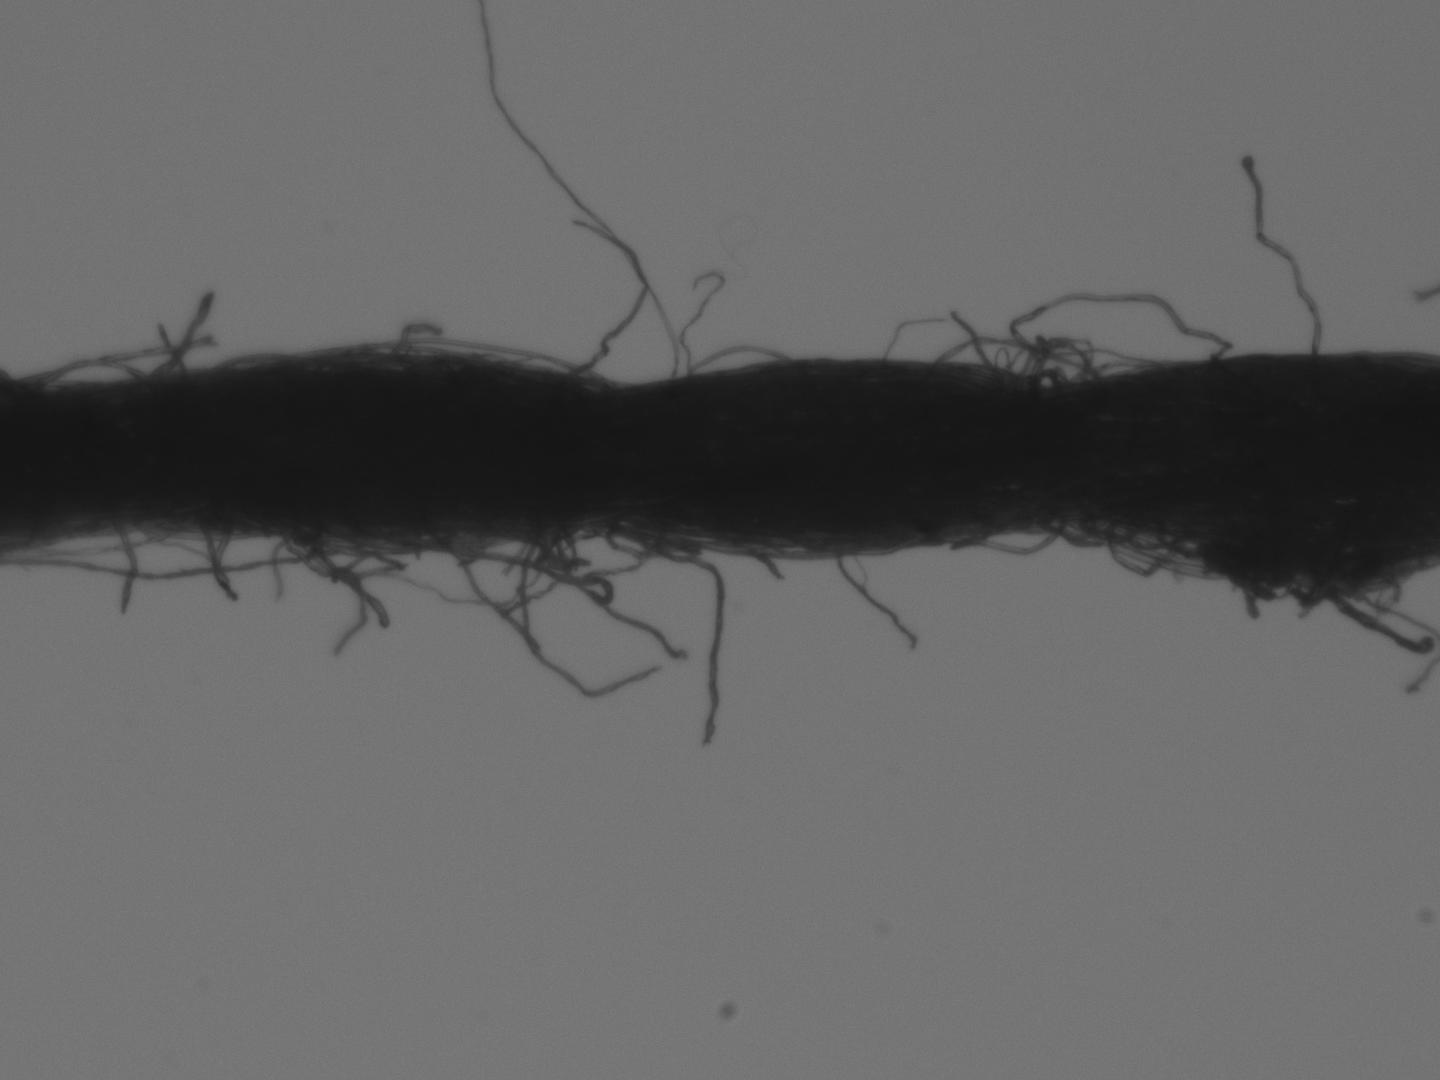loop_fiber: (1007, 290, 1234, 378), (2, 528, 349, 582), (410, 524, 646, 587), (325, 337, 607, 383), (924, 338, 1095, 383), (280, 530, 407, 587), (23, 523, 178, 558), (1026, 335, 1104, 387), (684, 341, 789, 378), (34, 354, 145, 388), (943, 524, 1060, 556), (1108, 523, 1174, 576), (611, 528, 702, 562), (215, 349, 283, 372), (1027, 363, 1066, 385)
protruding_fiber: (477, 10, 679, 378), (456, 545, 660, 703), (1238, 146, 1324, 351), (645, 534, 727, 742), (575, 213, 647, 385), (830, 556, 916, 647), (1193, 546, 1302, 614), (144, 289, 213, 381), (115, 523, 134, 615), (156, 324, 183, 382), (747, 551, 781, 584)
